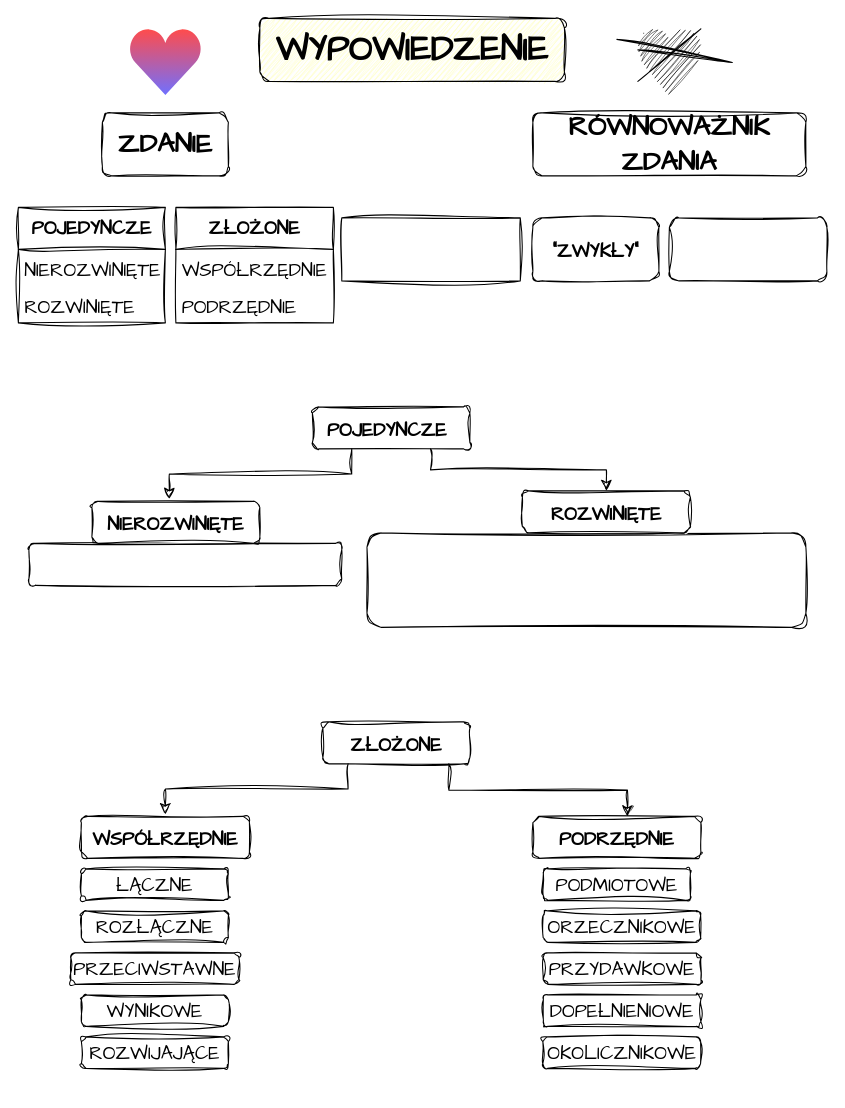
The diagram is 845 pixels wide and 1108 high, and some of its shapes have lost their labels. The centre of each missing label's shape, as x and y in pixels:
"IMIESŁOWOWY" goes at (x=747, y=249).
"ORZECZENIE, PODMIOT + OKREŚLENIA (PRZYDAWKI, DOPEŁNIENIA, OKOLICZNIKI)" goes at (x=586, y=579).
"TYLKO ORZECZENIE I PODMIOT" goes at (x=185, y=563).
"ZDANIE BEZPODMIOTOWE" goes at (x=430, y=249).
